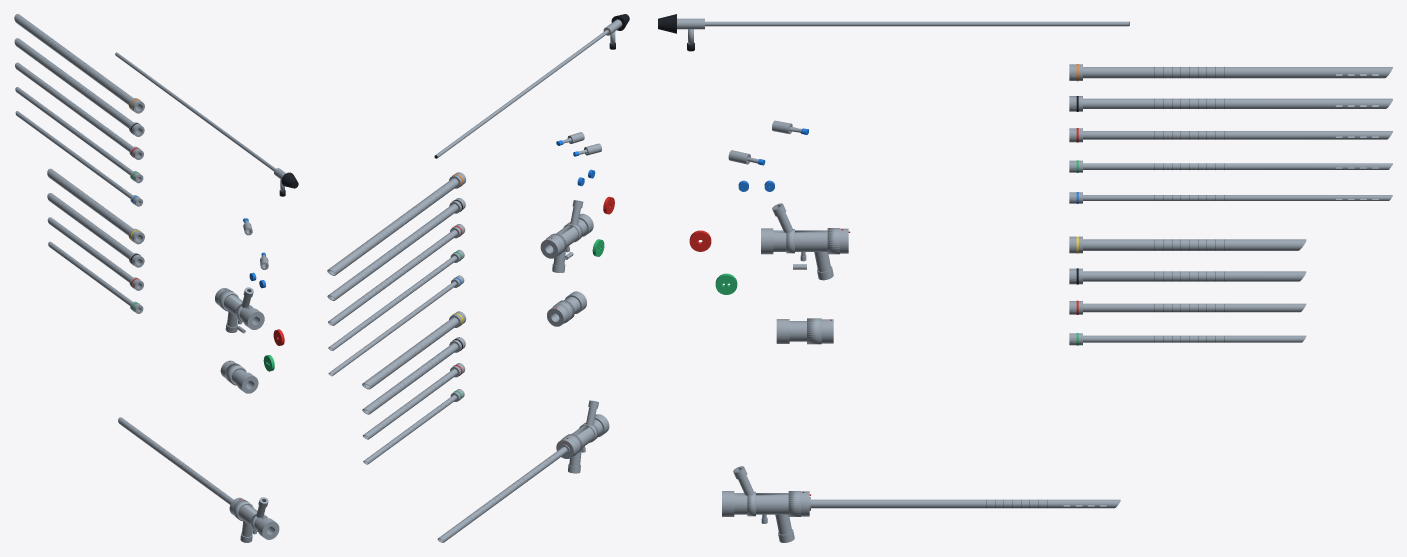
Rendered from Rigid bronch 3d model - EFER-DUMON corrected 2026-07-09.glb.
3 views of the same model, side by side, from view 1: azimuth 30°, elevation 25°; view 2: azimuth 150°, elevation 25°; view 3: azimuth 270°, elevation 25° (orthographic). The views are drawn at different scales.
Parts seen in each view (by area): view 1: BT2000_3_Hollow_Beveled_Tube, BT2101_3_Hollow_Beveled_Tube, BT2103_3_Hollow_Beveled_Tube, Demo_BT2103_3_Hollow_Beveled_Tube, BT2210_3_Hollow_Beveled_Tube, BT2201_3_Hollow_Beveled_Tube, BT2105_3_Hollow_Beveled_Tube, BX5500_FA_Sealed_Rod_Lens_Shaft, BT2106_3_Hollow_Beveled_Tube, BT2203_3_Hollow_Beveled_Tube, BT2205_3_Hollow_Beveled_Tube, Demo_Universal_Base_BD2410_3_Rear_Main_Port_Collar (+4 smaller); view 2: BT2000_3_Hollow_Beveled_Tube, BT2101_3_Hollow_Beveled_Tube, Demo_BT2103_3_Hollow_Beveled_Tube, BT2103_3_Hollow_Beveled_Tube, BT2210_3_Hollow_Beveled_Tube, BT2201_3_Hollow_Beveled_Tube, BT2105_3_Hollow_Beveled_Tube, BX5500_FA_Sealed_Rod_Lens_Shaft, BT2203_3_Hollow_Beveled_Tube, BT2106_3_Hollow_Beveled_Tube, BT2205_3_Hollow_Beveled_Tube, Universal_Base_BD2410_3_Front_Tube_Lock_Collar (+3 smaller); view 3: BT2000_3_Hollow_Beveled_Tube, BT2101_3_Hollow_Beveled_Tube, Demo_BT2103_3_Hollow_Beveled_Tube, BT2103_3_Hollow_Beveled_Tube, BT2210_3_Hollow_Beveled_Tube, BX5500_FA_Sealed_Rod_Lens_Shaft, BT2201_3_Hollow_Beveled_Tube, BT2203_3_Hollow_Beveled_Tube, BT2105_3_Hollow_Beveled_Tube, BT2106_3_Hollow_Beveled_Tube, BT2205_3_Hollow_Beveled_Tube, Demo_Universal_Base_BD2410_3_Connected_Main_Lumen (+1 smaller).
Part boxes in pixels (left/top/right/bottom): BT2000_3_Hollow_Beveled_Tube: left=14, top=14, right=137, bottom=105; BT2101_3_Hollow_Beveled_Tube: left=14, top=38, right=133, bottom=128; BT2103_3_Hollow_Beveled_Tube: left=15, top=62, right=132, bottom=151; Demo_BT2103_3_Hollow_Beveled_Tube: left=118, top=417, right=233, bottom=504; BT2210_3_Hollow_Beveled_Tube: left=47, top=168, right=136, bottom=237; BT2201_3_Hollow_Beveled_Tube: left=47, top=193, right=133, bottom=258; BT2105_3_Hollow_Beveled_Tube: left=15, top=87, right=132, bottom=174; BX5500_FA_Sealed_Rod_Lens_Shaft: left=115, top=52, right=275, bottom=171; BT2106_3_Hollow_Beveled_Tube: left=15, top=111, right=132, bottom=198; BT2203_3_Hollow_Beveled_Tube: left=47, top=217, right=132, bottom=282; BT2205_3_Hollow_Beveled_Tube: left=48, top=241, right=132, bottom=305; Demo_Universal_Base_BD2410_3_Rear_Main_Port_Collar: left=258, top=518, right=279, bottom=539; BT2000_3_Hollow_Beveled_Tube: left=327, top=178, right=458, bottom=275; BT2101_3_Hollow_Beveled_Tube: left=327, top=204, right=458, bottom=300; Demo_BT2103_3_Hollow_Beveled_Tube: left=437, top=447, right=567, bottom=542; BT2103_3_Hollow_Beveled_Tube: left=328, top=230, right=457, bottom=325; BT2210_3_Hollow_Beveled_Tube: left=362, top=317, right=458, bottom=389; BT2201_3_Hollow_Beveled_Tube: left=362, top=343, right=458, bottom=414; BT2105_3_Hollow_Beveled_Tube: left=328, top=256, right=457, bottom=350; BX5500_FA_Sealed_Rod_Lens_Shaft: left=435, top=30, right=608, bottom=158; BT2203_3_Hollow_Beveled_Tube: left=362, top=369, right=457, bottom=439; BT2106_3_Hollow_Beveled_Tube: left=328, top=281, right=456, bottom=376; BT2205_3_Hollow_Beveled_Tube: left=363, top=395, right=457, bottom=464; Universal_Base_BD2410_3_Front_Tube_Lock_Collar: left=540, top=235, right=563, bottom=258; BT2000_3_Hollow_Beveled_Tube: left=1083, top=67, right=1392, bottom=78; BT2101_3_Hollow_Beveled_Tube: left=1083, top=98, right=1392, bottom=108; Demo_BT2103_3_Hollow_Beveled_Tube: left=811, top=499, right=1120, bottom=508; BT2103_3_Hollow_Beveled_Tube: left=1083, top=131, right=1392, bottom=139; BT2210_3_Hollow_Beveled_Tube: left=1083, top=239, right=1306, bottom=250; BX5500_FA_Sealed_Rod_Lens_Shaft: left=705, top=21, right=1128, bottom=26; BT2201_3_Hollow_Beveled_Tube: left=1083, top=271, right=1306, bottom=281; BT2203_3_Hollow_Beveled_Tube: left=1083, top=303, right=1306, bottom=312; BT2105_3_Hollow_Beveled_Tube: left=1083, top=163, right=1392, bottom=169; BT2106_3_Hollow_Beveled_Tube: left=1083, top=195, right=1392, bottom=200; BT2205_3_Hollow_Beveled_Tube: left=1083, top=335, right=1306, bottom=342; Demo_Universal_Base_BD2410_3_Connected_Main_Lumen: left=734, top=493, right=788, bottom=514.
Bounding box in the file's own units: 0.0331 × 0.6704 × 0.849.
